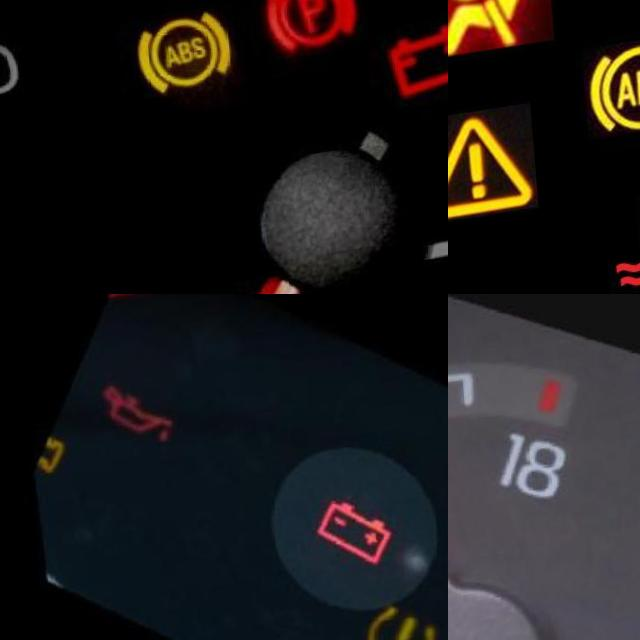Central Warning lamp: (448, 110, 532, 229)
Engine cooling system: (587, 187, 640, 294)
